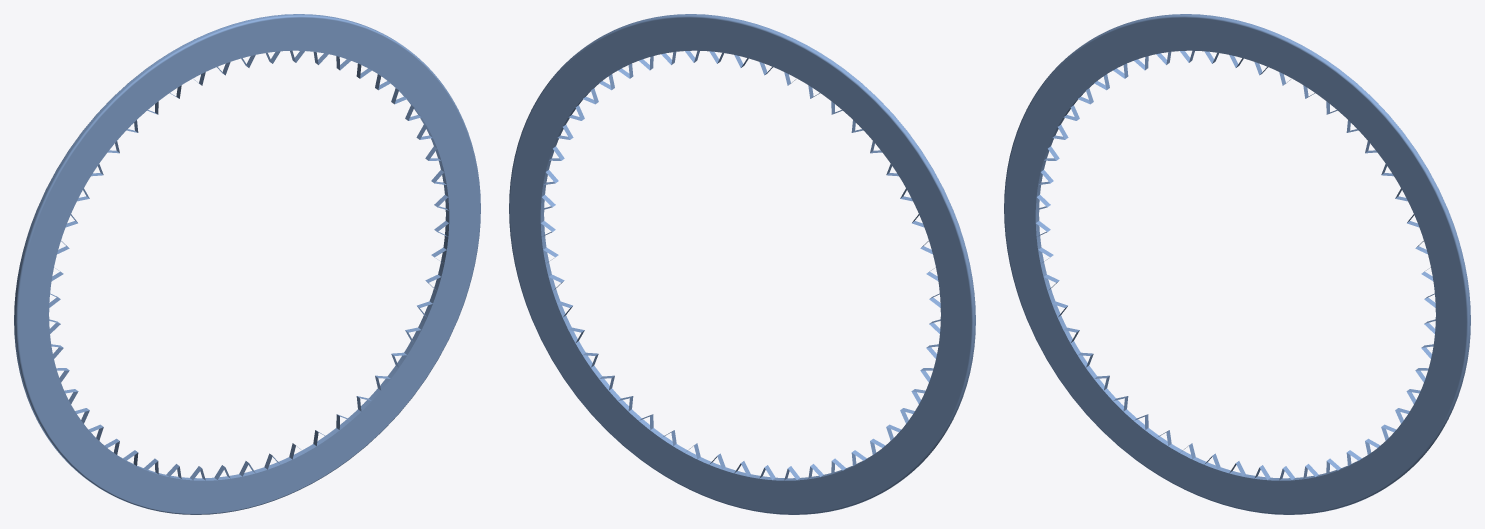
Rendered from InnerGear.glb.
The picture shows the model from 3 angles, left to right: view 1: azimuth 30°, elevation 25°; view 2: azimuth 150°, elevation 25°; view 3: azimuth 330°, elevation 25°; orthographic projection.
Parts seen in each view (by area): view 1: InnerGear; view 2: InnerGear; view 3: InnerGear.
Part boxes in pixels (x1,y1,x2,y2): InnerGear: [14, 14, 480, 514]; InnerGear: [509, 14, 975, 514]; InnerGear: [1004, 14, 1470, 514].
Bounding box in the file's own units: 27.66 × 27.66 × 0.3549.
